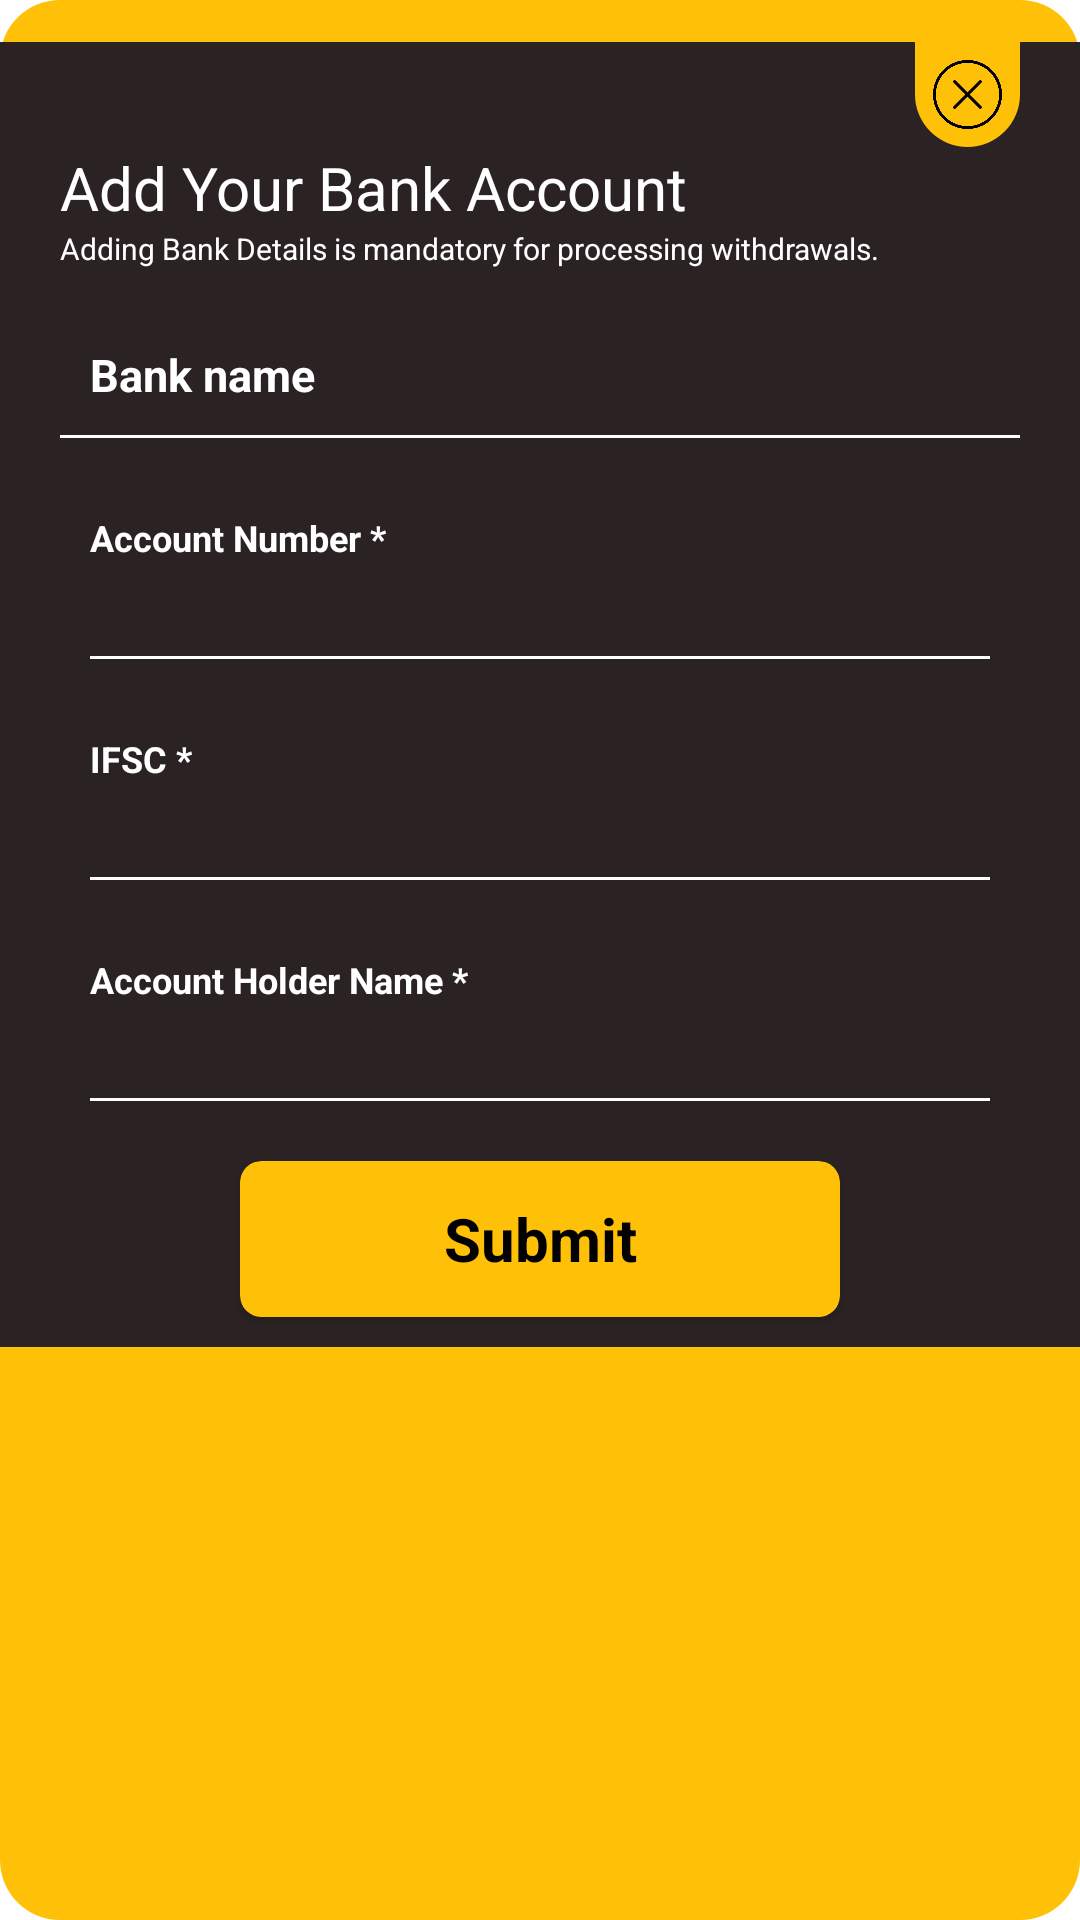

Icon click points for this 1080x1920 phone screenshot, format [x,y]:
closebtn: [967,94]
